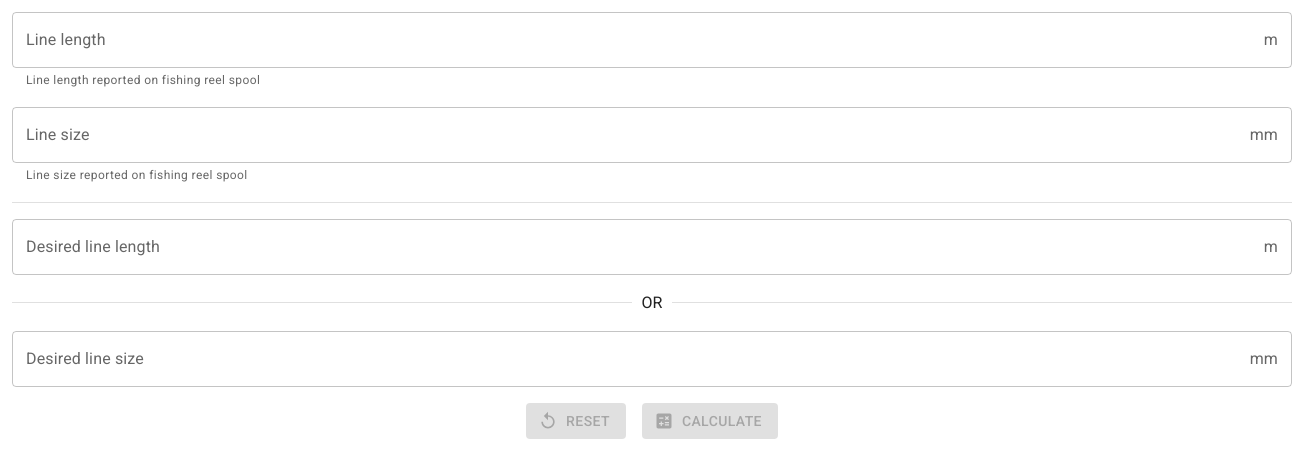
Test: resets form
Type "1" into the field labelled "Line length" at (634, 40), box [12,12,1256,68]
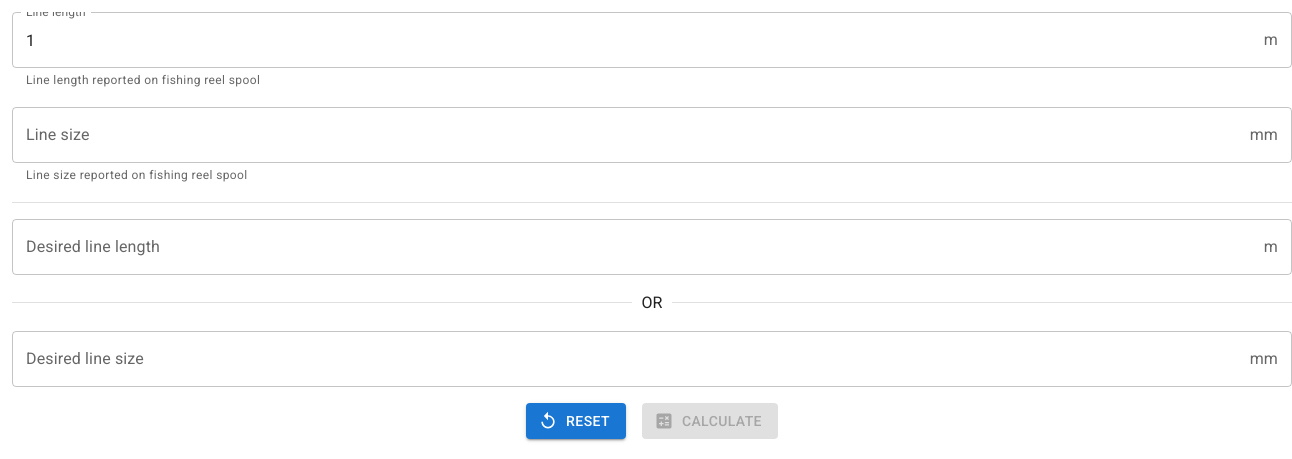
Type "1" into the field labelled "Line size" at (627, 135), box [12,107,1242,163]
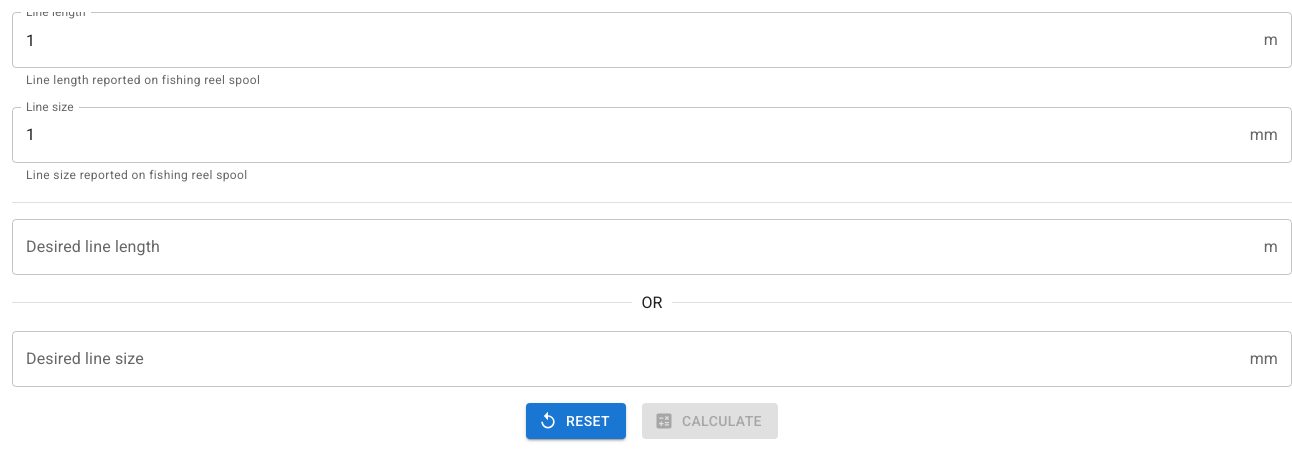
Type "1" into the field labelled "Desired line length" at (634, 247), box [12,219,1256,275]
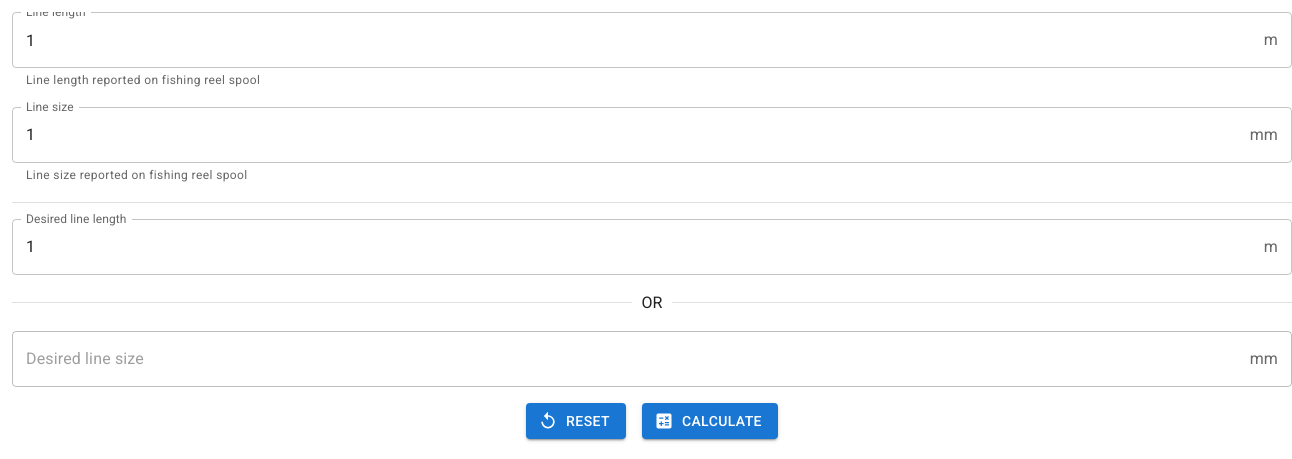
Type "1" into the field labelled "Desired line size" at (627, 359), box [12,331,1242,387]
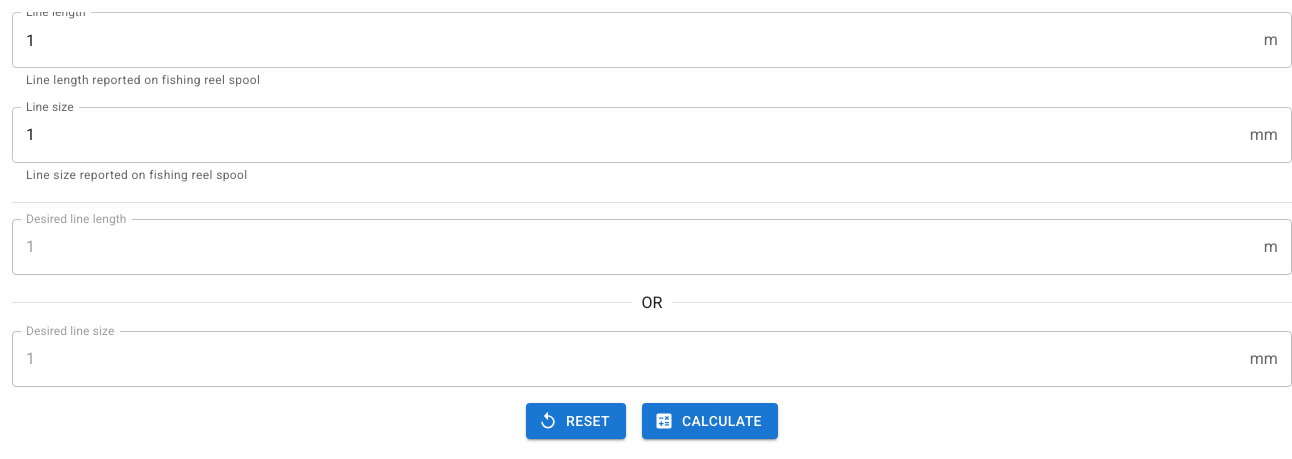
Click the button "Reset" at (576, 421), box [526,403,626,439]
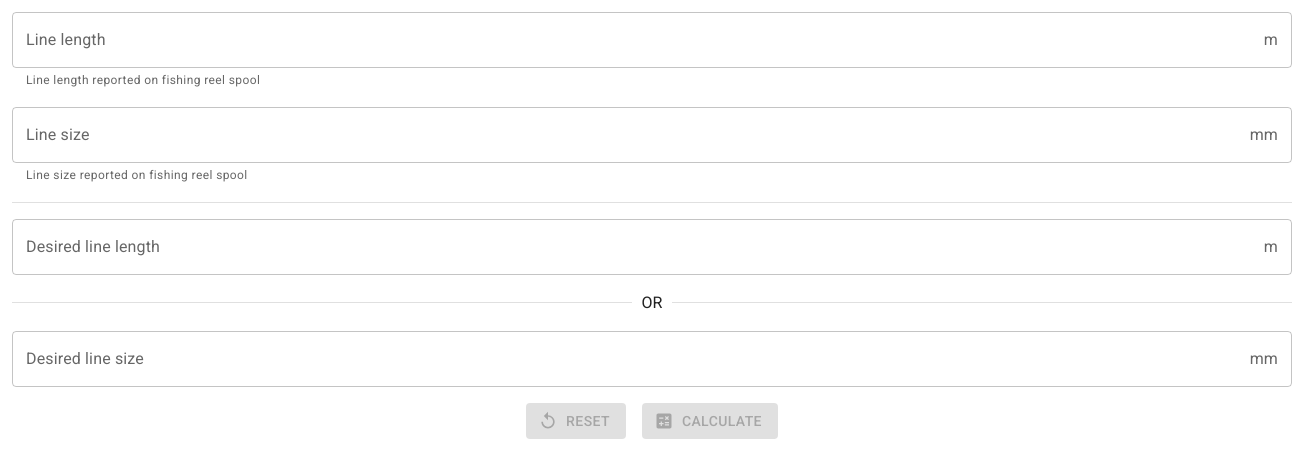
Now the field labelled "Line length" is empty, box [12,12,1256,68]
Now the field labelled "Line size" is empty, box [12,107,1242,163]
Now the field labelled "Desired line length" is empty, box [12,219,1256,275]
